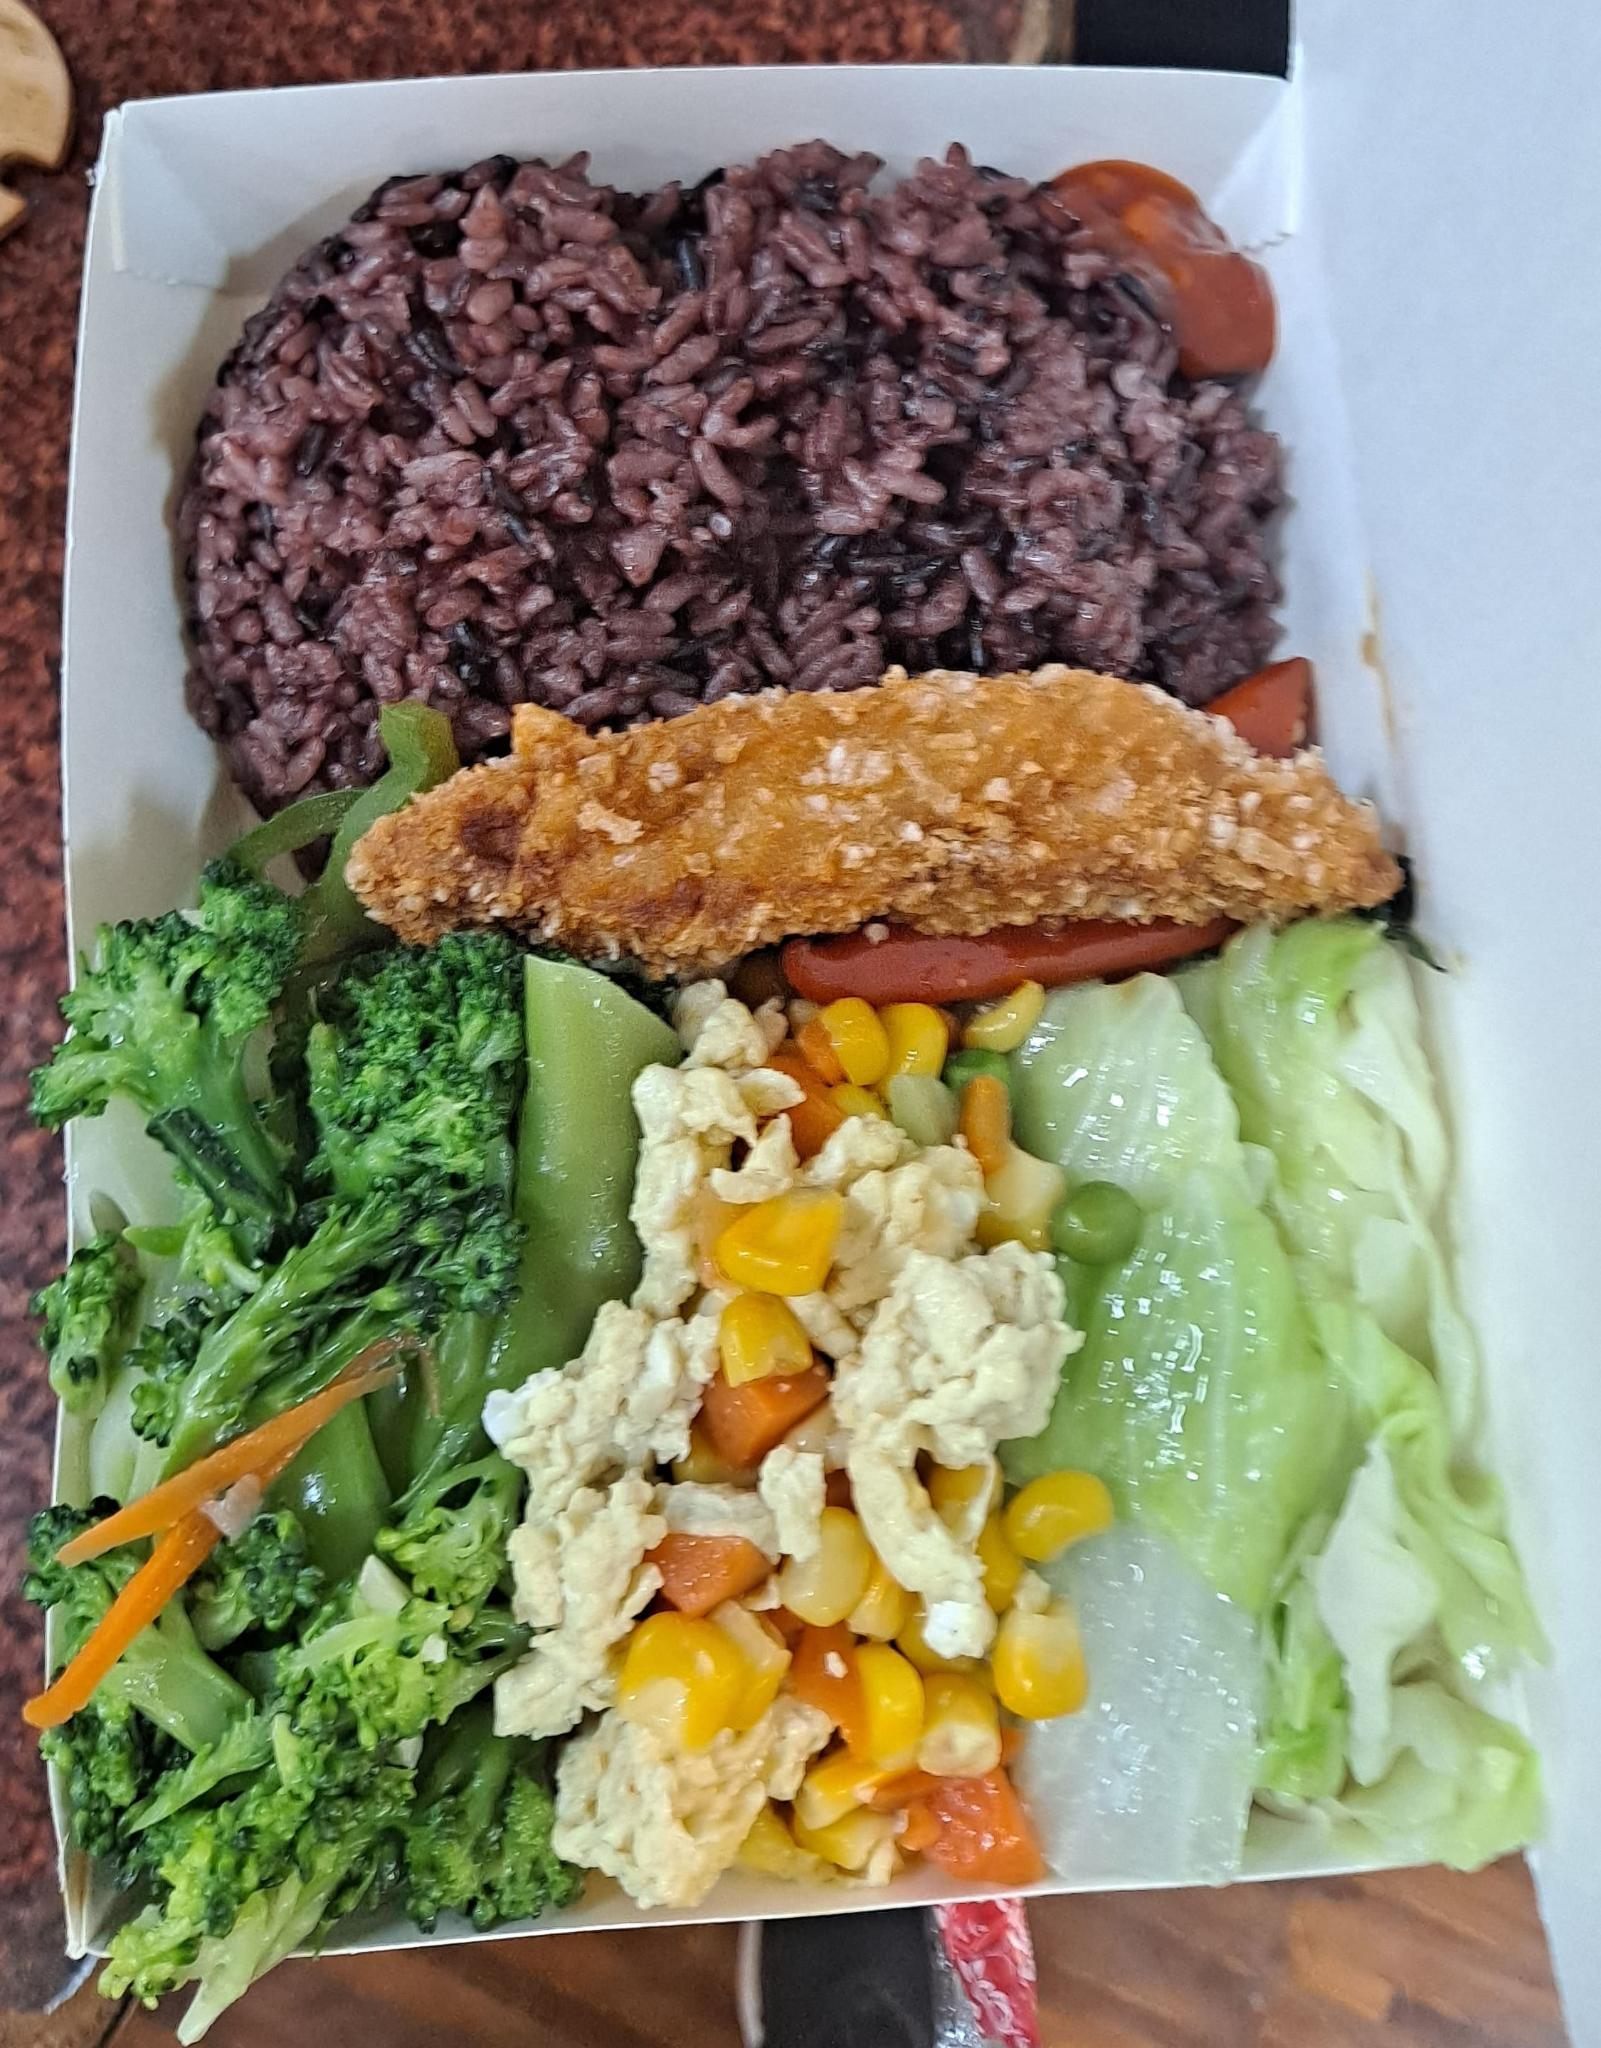big grilled chicken leg: (27, 37, 1534, 1990)
braised fish: (183, 140, 1288, 795)
braised fish fillet: (38, 883, 645, 2010), (499, 976, 1086, 1910), (1022, 944, 1543, 1870)
braised pork: (339, 655, 1405, 991)
